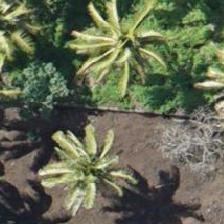coconut_tree: (79, 8, 169, 98), (0, 73, 89, 163), (102, 151, 192, 223)
